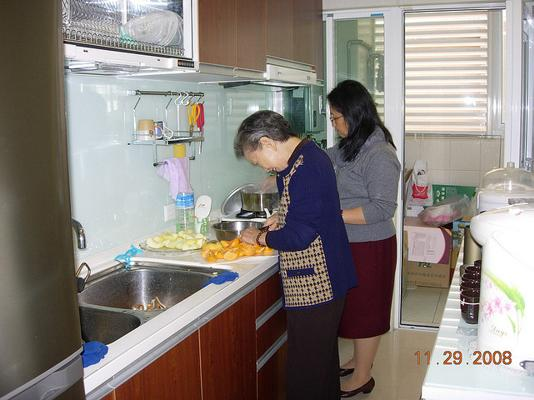person: (236, 110, 358, 400)
